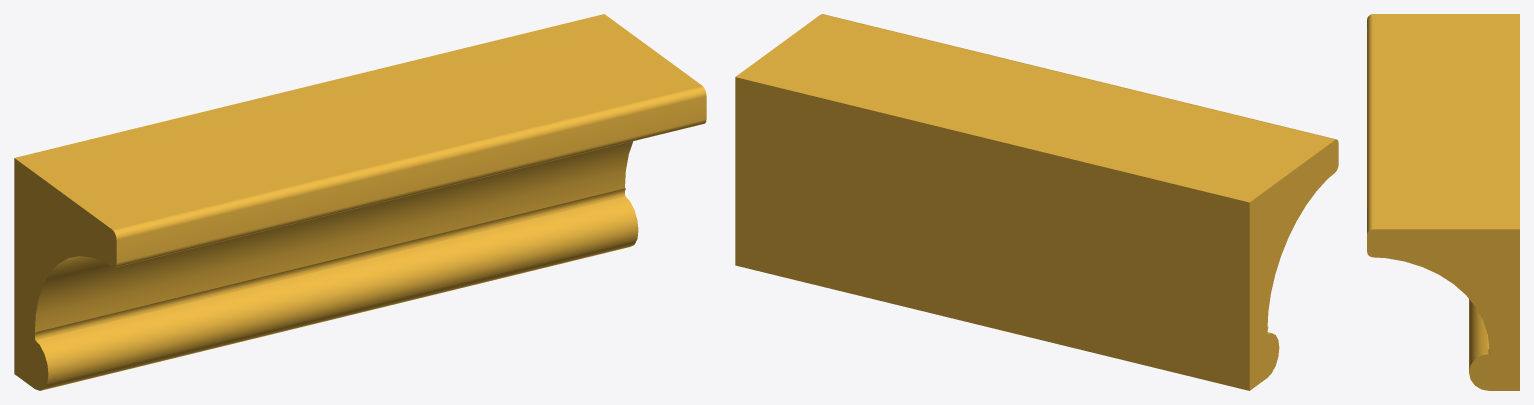
The model's file is K_Cornice.fbx.
The picture shows the model from 3 angles, left to right: view 1: azimuth 30°, elevation 25°; view 2: azimuth 150°, elevation 25°; view 3: azimuth 270°, elevation 25°; orthographic projection. The views are drawn at different scales.
Parts seen in each view (by area): view 1: K_Cornice; view 2: K_Cornice; view 3: K_Cornice.
Boxes of the visible parts, x1=… form: K_Cornice: x1=14, y1=14, x2=706, y2=390; K_Cornice: x1=735, y1=14, x2=1338, y2=390; K_Cornice: x1=1367, y1=14, x2=1519, y2=390.
Size of the model in its own units: 1 by 0.35 by 0.3.
